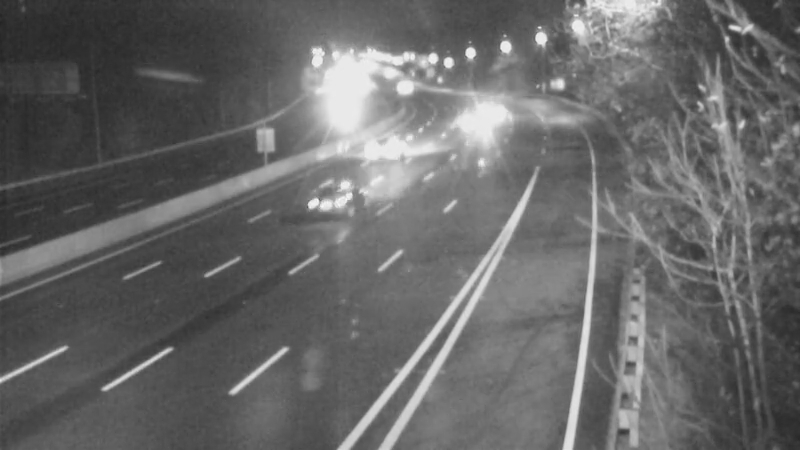vehicle: (283, 158, 363, 238), (379, 62, 429, 112), (465, 82, 515, 132), (438, 96, 488, 146), (364, 124, 414, 174)
